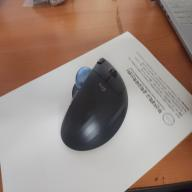mouse: (60, 57, 130, 153)
